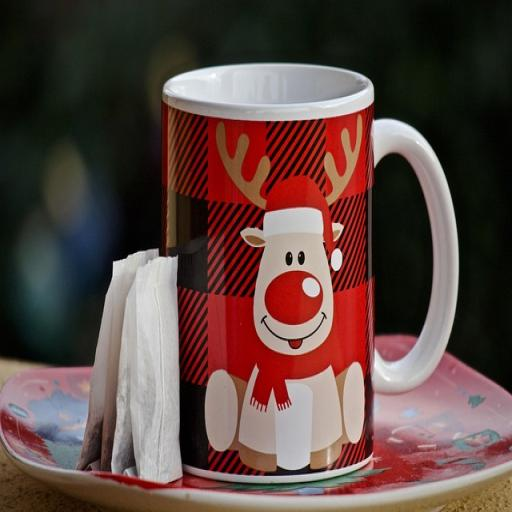phone: (160, 62, 460, 487)
